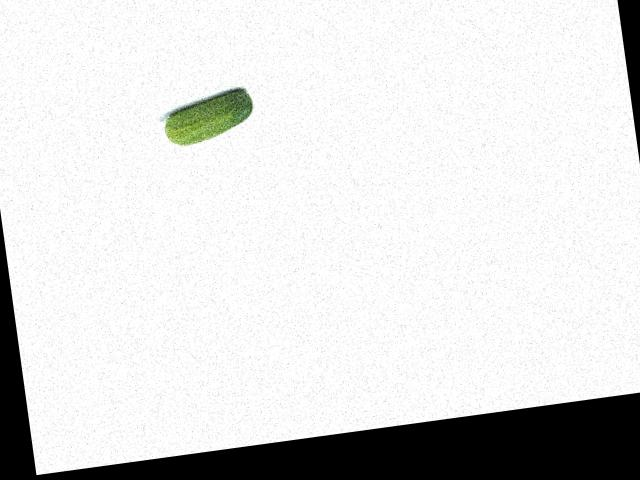cucumber: (161, 88, 256, 147)
